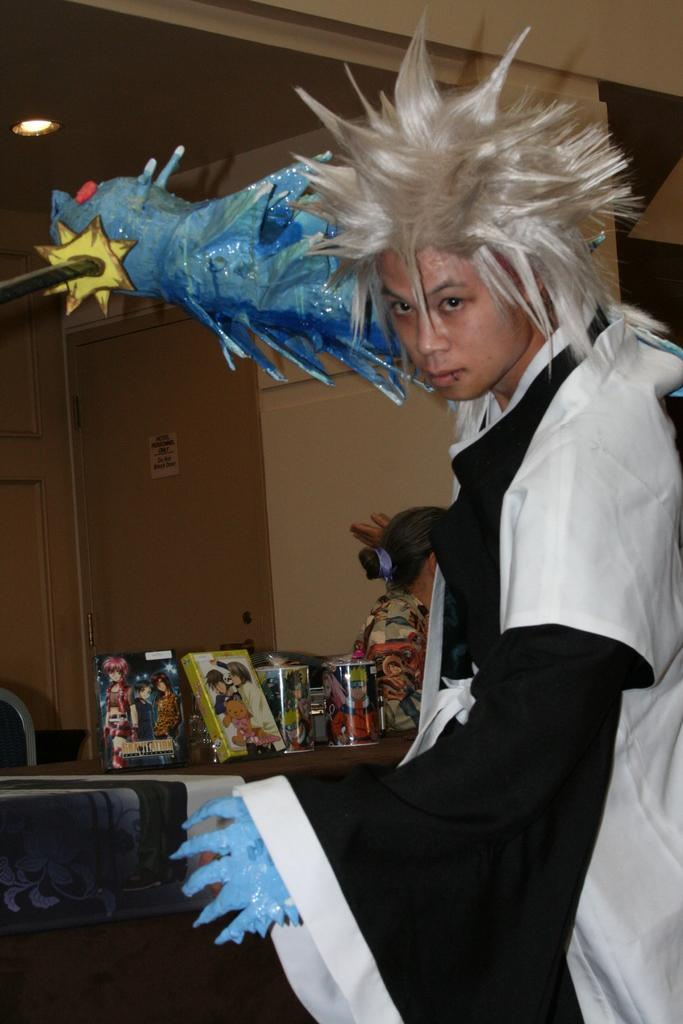Book: (180, 648, 287, 763), (93, 648, 190, 773)
